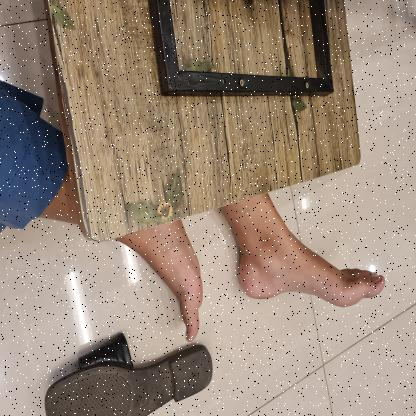leg: (220, 191, 389, 313), (118, 212, 211, 346)
